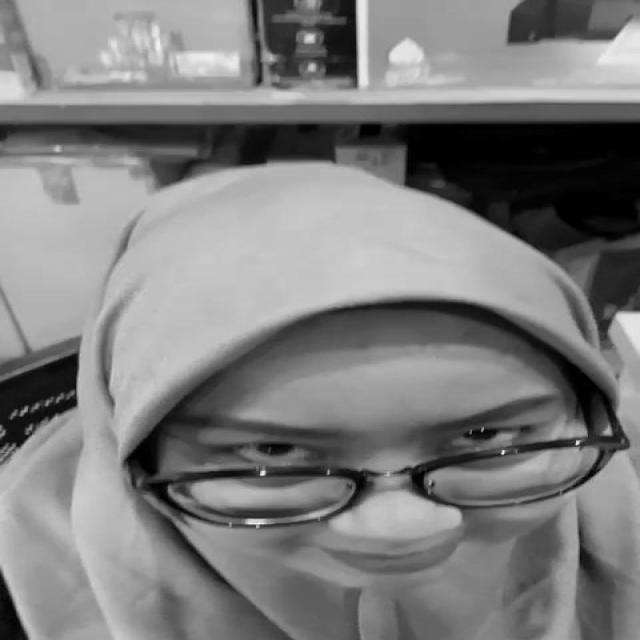real: (141, 272, 591, 602)
